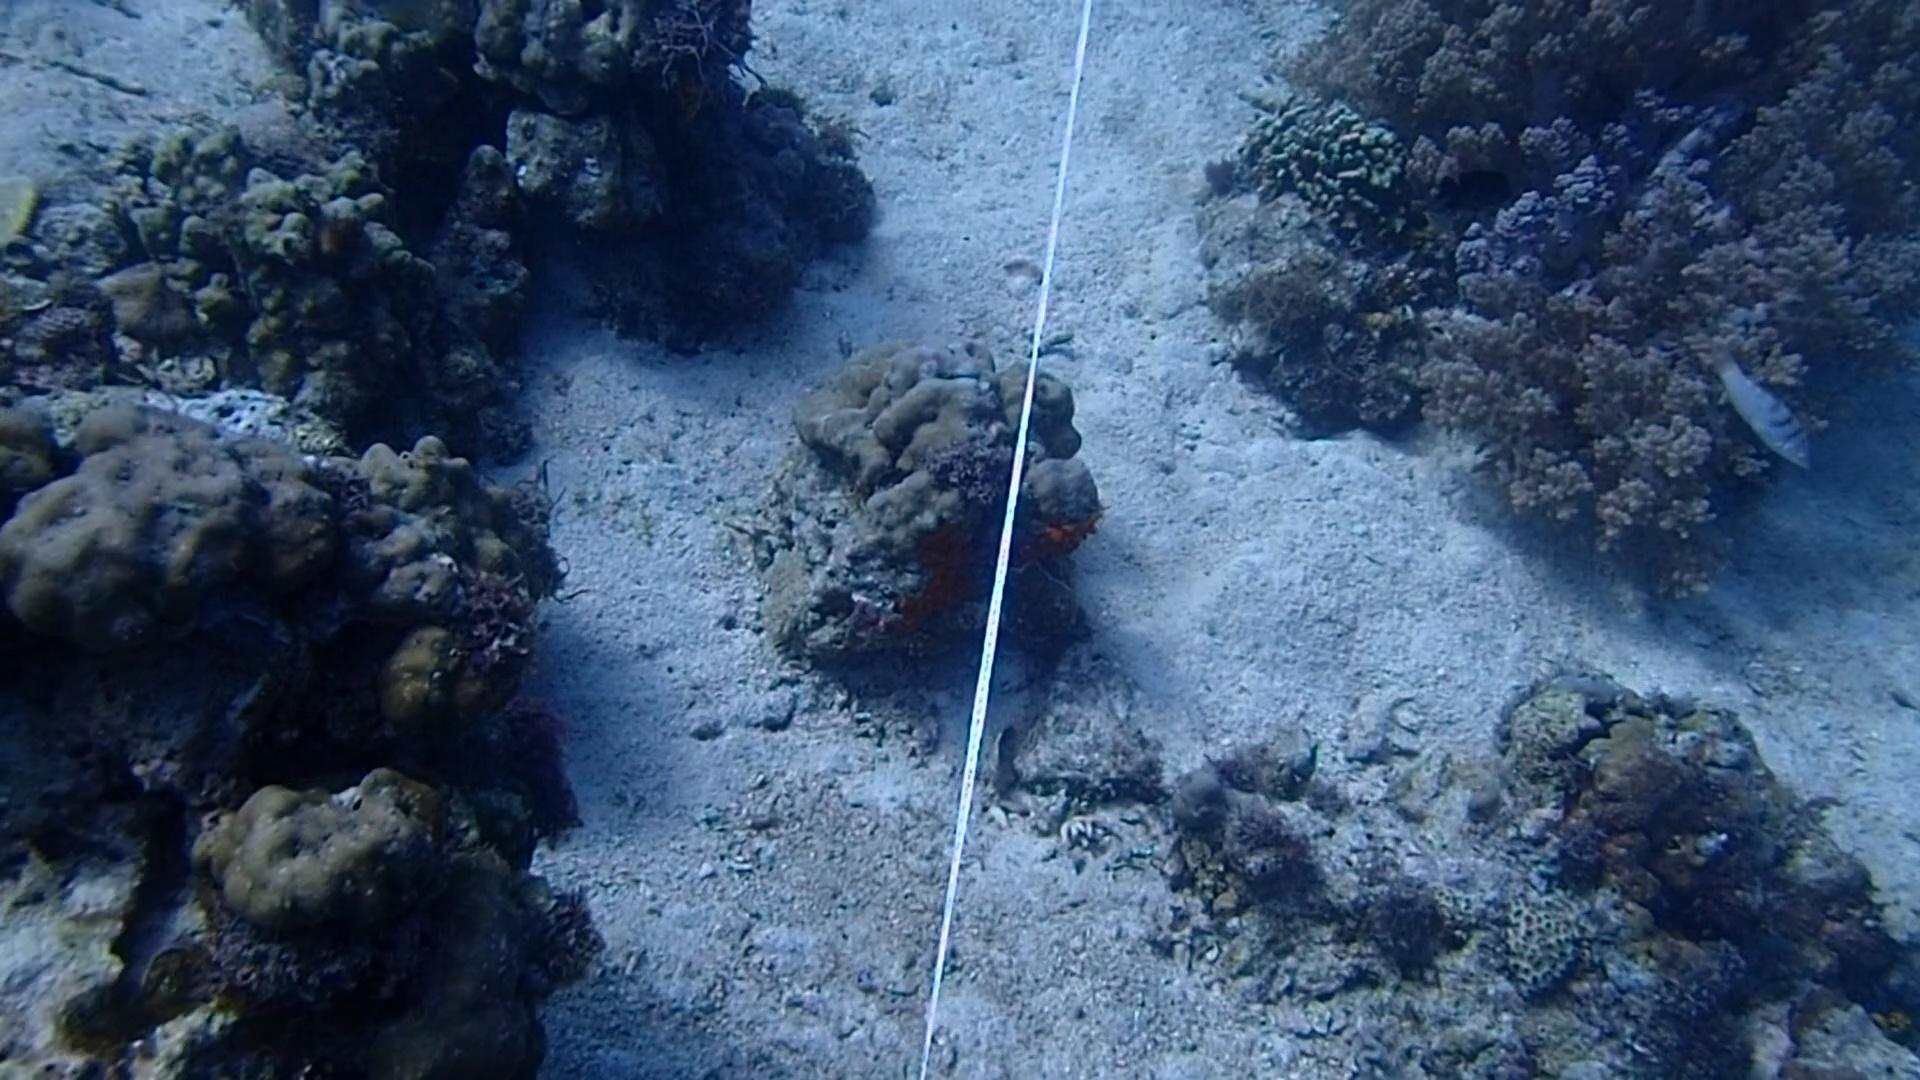Dark Fish: (1422, 153, 1522, 211)
Light Fish w Back Stripes: (1698, 344, 1825, 471)
